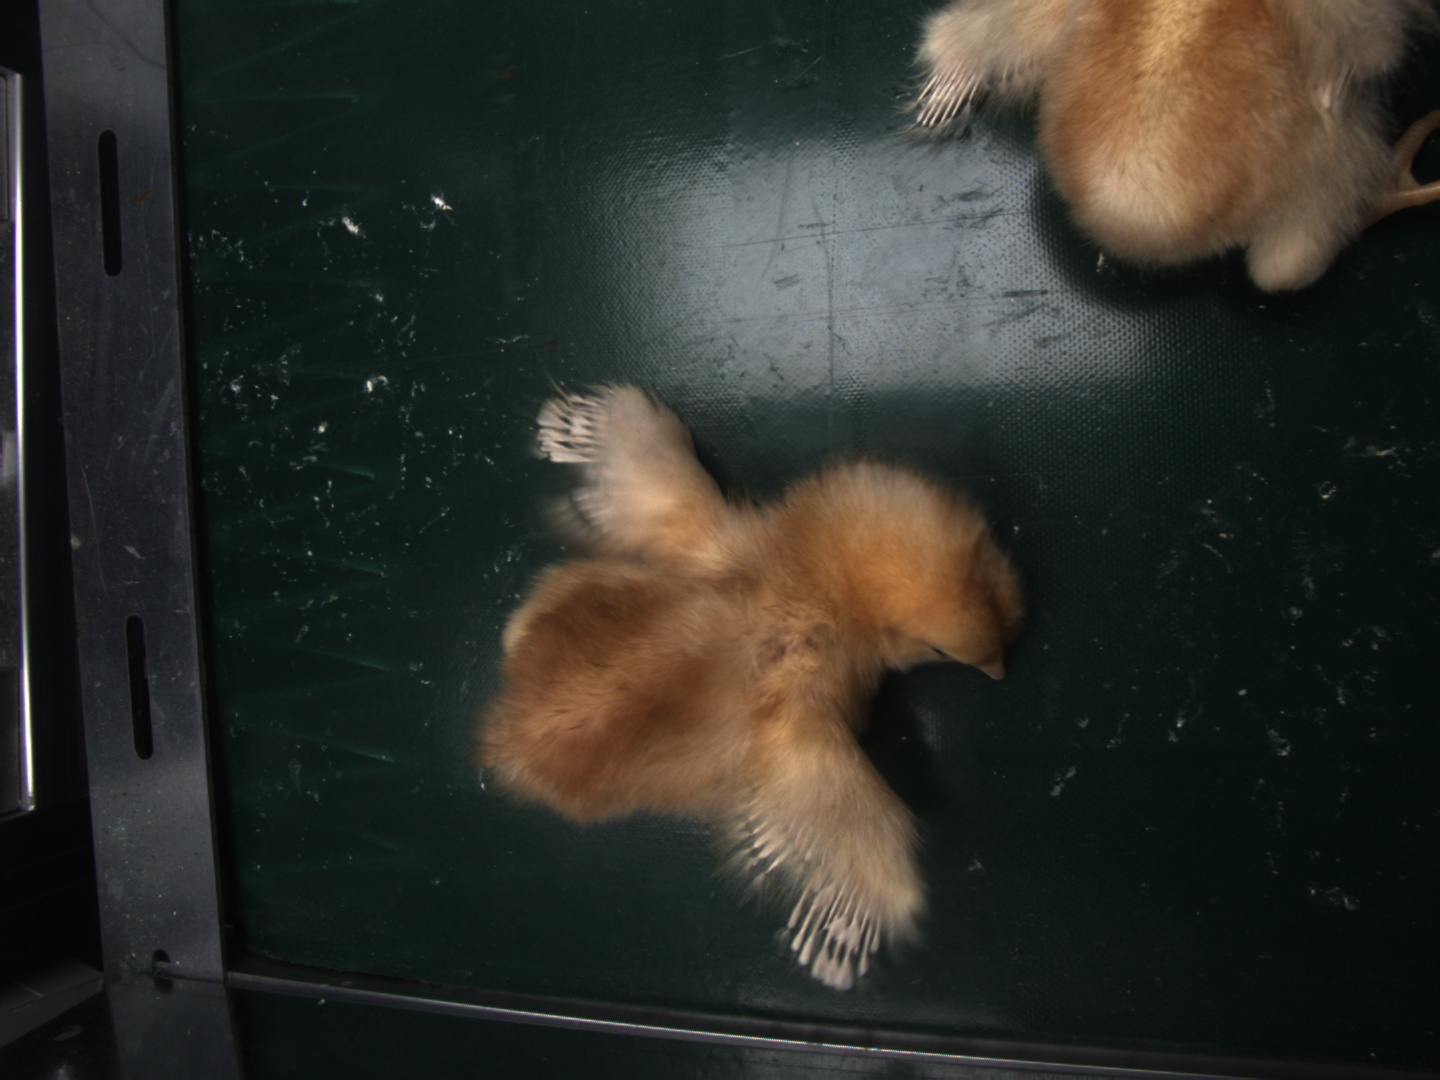female: (785, 877, 886, 992)
